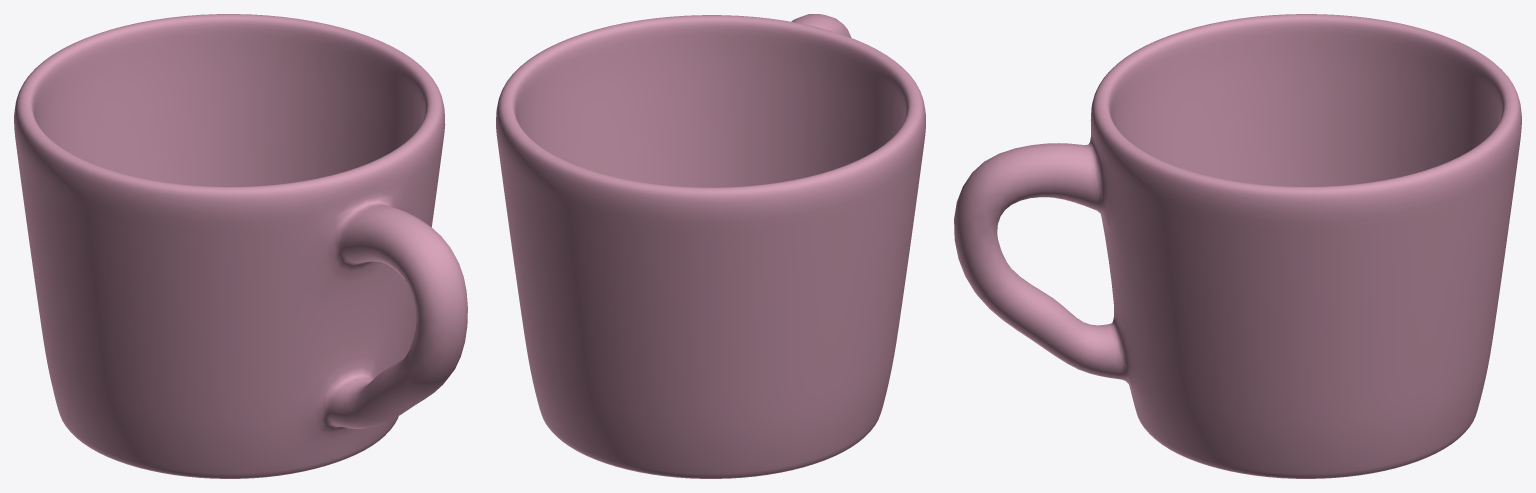
File: tea.fbx
3 views of the same model, side by side, from view 1: azimuth 30°, elevation 25°; view 2: azimuth 150°, elevation 25°; view 3: azimuth 270°, elevation 25° (orthographic).
Visible parts, largest first — view 1: Dishes.002; view 2: Dishes.002; view 3: Dishes.002.
Part boxes in pixels (x1,y1,x2,y2): Dishes.002: [14, 14, 467, 478]; Dishes.002: [496, 14, 925, 478]; Dishes.002: [954, 14, 1521, 478].
Bounding box in the file's own units: 22.96 × 18.02 × 30.24.
